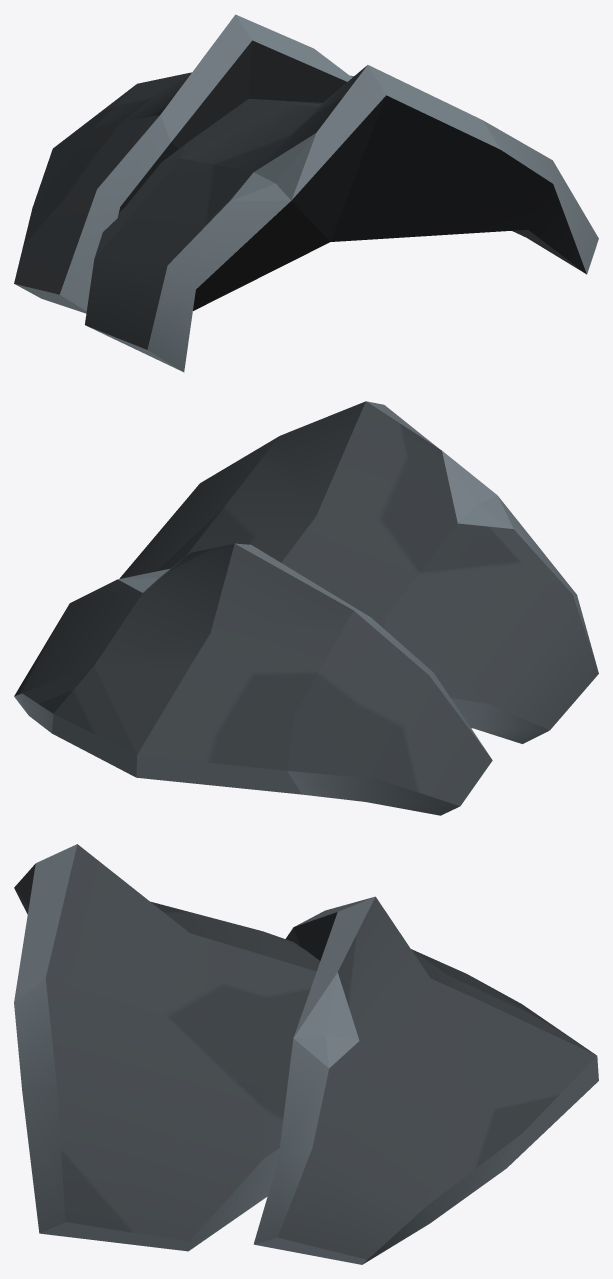
The model's file is SM_Chr_Attach_Armour_Dark_Back_Small_01.fbx.
3 renders of one model, top to bottom at view 1: azimuth 30°, elevation 25°; view 2: azimuth 150°, elevation 25°; view 3: azimuth 270°, elevation 25°, orthographic. The views are drawn at different scales.
Visible parts, largest first — view 1: SM_Chr_Attach_Armour_Dark_Back_Small_01; view 2: SM_Chr_Attach_Armour_Dark_Back_Small_01; view 3: SM_Chr_Attach_Armour_Dark_Back_Small_01.
Boxes of the visible parts, bbox=[...] form: SM_Chr_Attach_Armour_Dark_Back_Small_01: bbox=[14, 14, 598, 372]; SM_Chr_Attach_Armour_Dark_Back_Small_01: bbox=[14, 401, 598, 815]; SM_Chr_Attach_Armour_Dark_Back_Small_01: bbox=[14, 844, 598, 1264].
Size of the model in its own units: 21.08 by 11.95 by 20.29.
